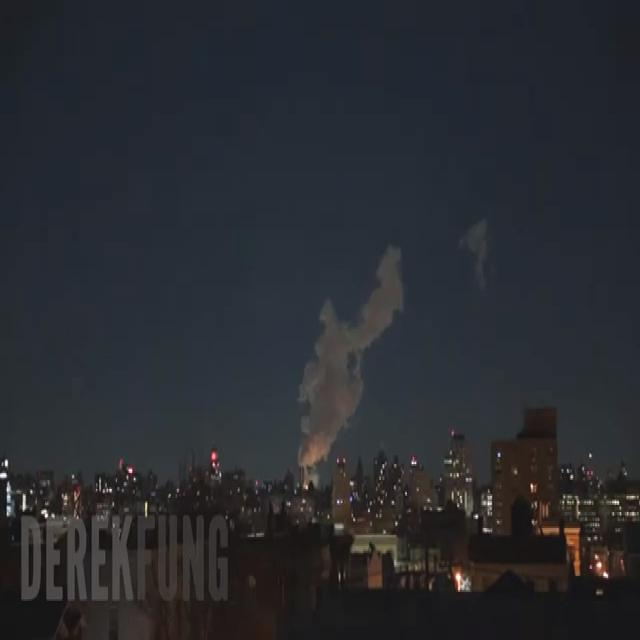smoke: (299, 245, 402, 464)
